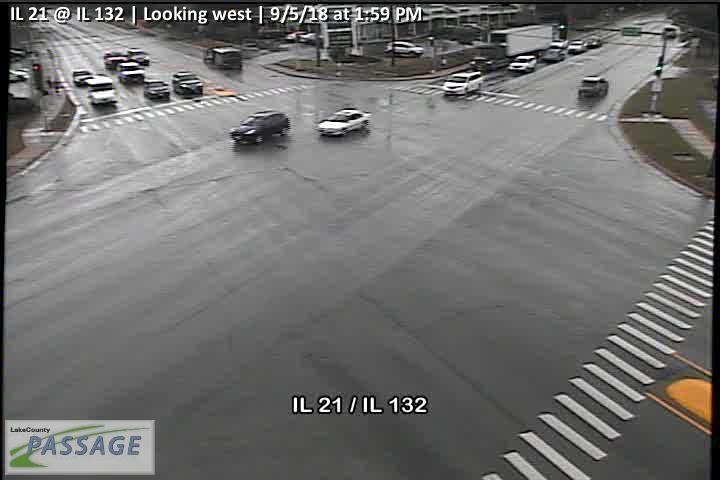SUV: (229, 108, 290, 145), (442, 70, 484, 96), (87, 77, 118, 105), (172, 71, 204, 95), (577, 74, 610, 97), (383, 40, 425, 57), (117, 61, 146, 84), (507, 54, 537, 73), (104, 50, 127, 68), (128, 48, 151, 65)
Sedan: (316, 108, 372, 136), (142, 79, 170, 100), (71, 68, 93, 87), (541, 48, 566, 62), (568, 39, 587, 53), (586, 36, 604, 47)
Truck: (468, 23, 553, 70), (204, 45, 243, 70)
